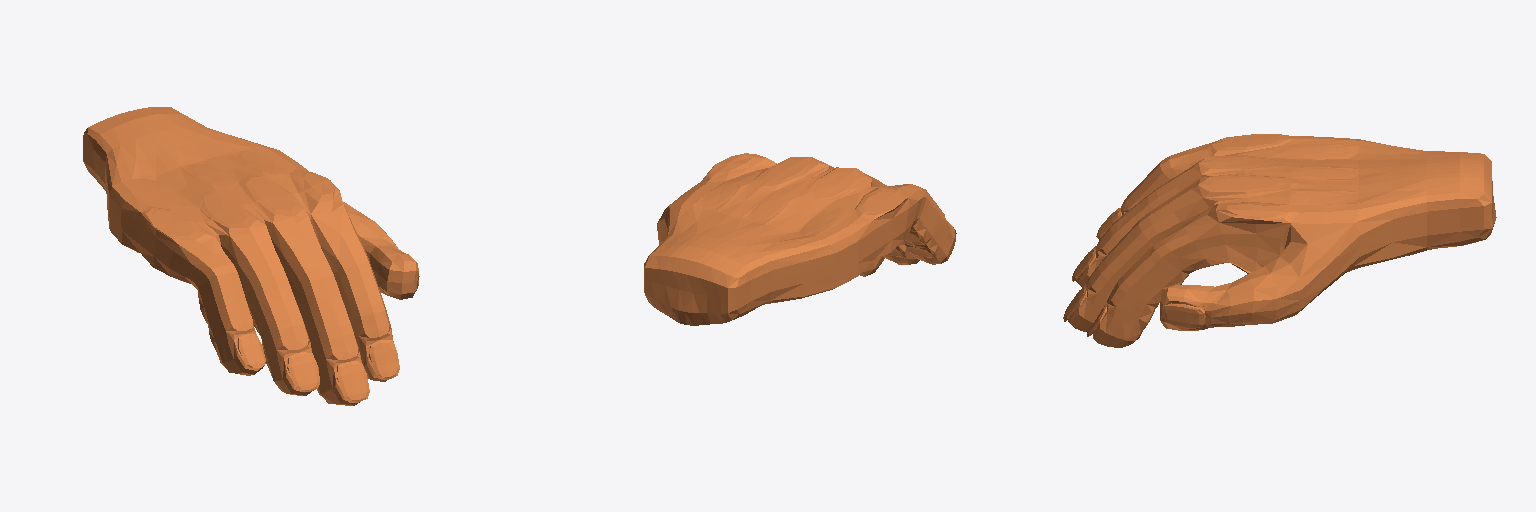
The model's file is hand3.obj.
3 renders of one model, left to right at view 1: azimuth 30°, elevation 25°; view 2: azimuth 150°, elevation 25°; view 3: azimuth 270°, elevation 25°, orthographic.
Parts seen in each view (by area): view 1: Box001; view 2: Box001; view 3: Box001.
Part boxes in pixels (x1,y1,x2,y2): Box001: (83,107,419,405); Box001: (644,153,956,325); Box001: (1063,134,1496,347).
Bounding box in the file's own units: 196 × 129 × 321.